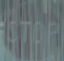Stop: (4, 5, 61, 51)
